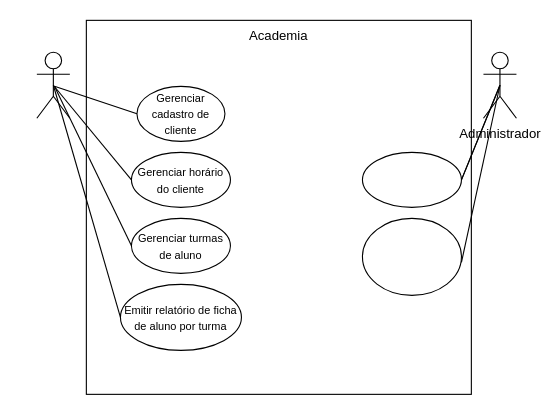
Image size: 560x414. Some labels were removed from this diagram. The shapes that lost their labels are listed below. From the top down, each one's centre as x and y in pixels, then its label:
At (x=53, y=84): "Funcionário".
At (x=411, y=179): "Gerenciar horário de funcionário".
At (x=411, y=256): "Emitir relatório de turmas para funcionários".
